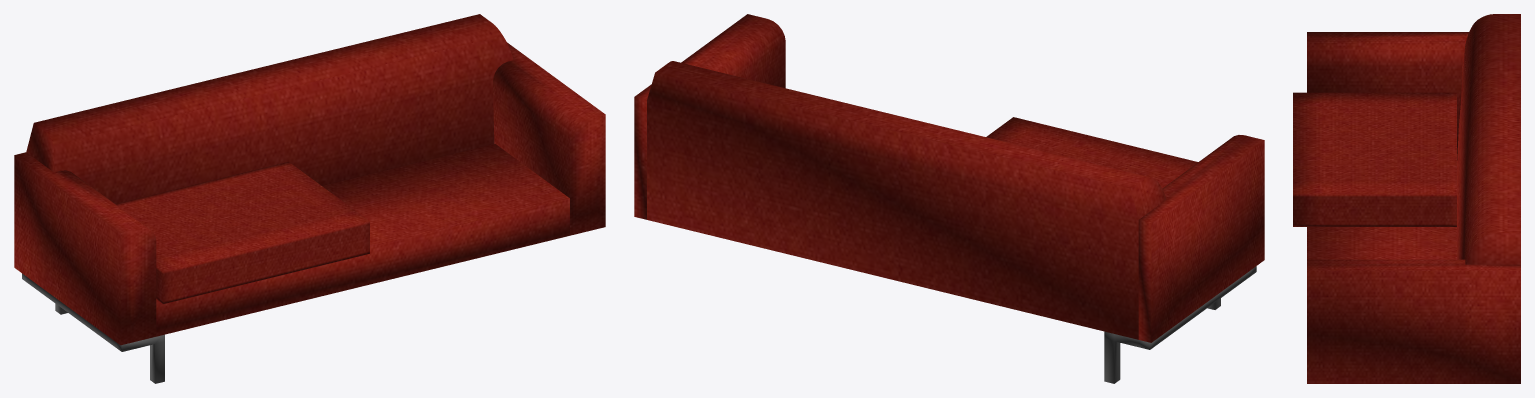
File: Sofa.glb
3 renders of one model, left to right at view 1: azimuth 30°, elevation 25°; view 2: azimuth 150°, elevation 25°; view 3: azimuth 270°, elevation 25°, orthographic. The views are drawn at different scales.
Visible parts, largest first — view 1: Plane.005, Plane.006, Plane.001, Plane.002, Theatre Sofa 203x77x76; view 2: Plane.005, Plane.006, Plane.002, Theatre Sofa 203x77x76; view 3: Plane.006, Plane.002, Plane.005, Plane.001.
Boxes of the visible parts, box(x1,y1,x2,y2) form: Plane.005: box(26, 14, 513, 203); Plane.006: box(14, 42, 605, 345); Plane.001: box(156, 144, 569, 336); Plane.002: box(115, 161, 369, 303); Theatre Sofa 203x77x76: box(22, 273, 164, 383); Plane.005: box(647, 61, 1166, 339); Plane.006: box(634, 14, 1264, 342); Plane.002: box(986, 117, 1197, 188); Theatre Sofa 203x77x76: box(1104, 266, 1256, 383); Plane.006: box(1307, 32, 1520, 383); Plane.002: box(1293, 92, 1456, 226); Plane.005: box(1457, 14, 1520, 264); Plane.001: box(1307, 227, 1456, 259).
Bounding box in the file's own units: 2.03 × 0.76 × 0.82.
2 materials, 1 textured.
